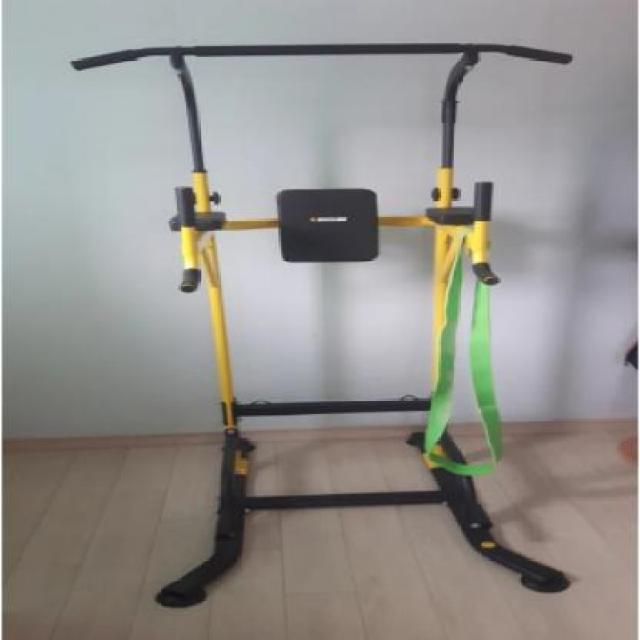chinning dipping: (66, 42, 574, 608)
